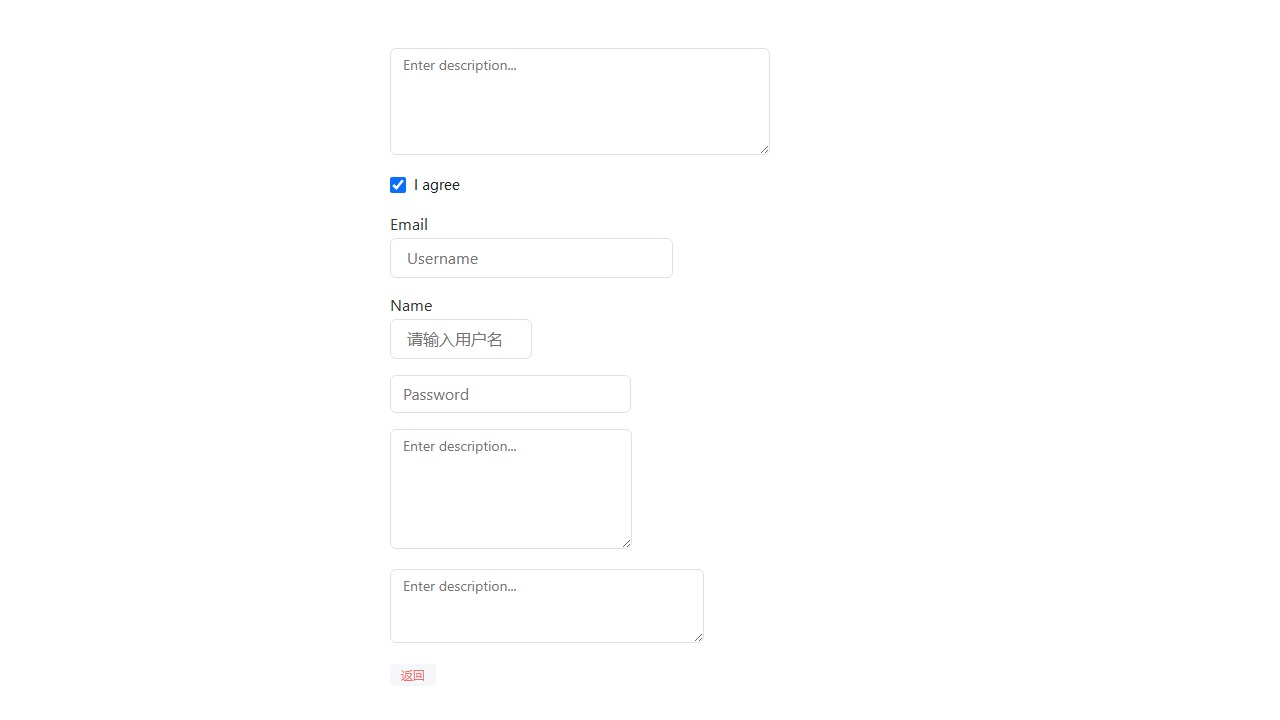button: (390, 664, 436, 686)
checkbox: (390, 177, 406, 192)
icon: (414, 175, 460, 194)
input: (390, 237, 673, 278), (390, 375, 631, 413), (390, 318, 532, 359)
radio: (390, 175, 460, 194)
textarea: (390, 48, 770, 155), (390, 428, 632, 548), (390, 568, 704, 642)
